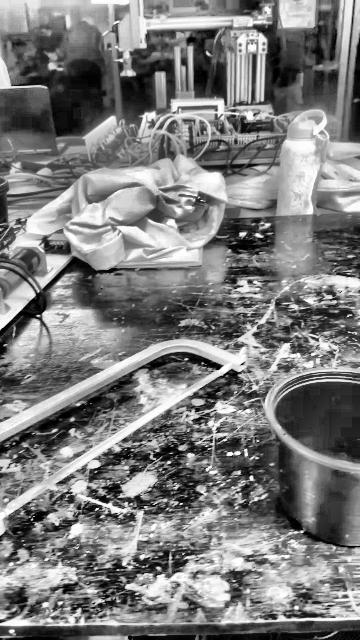pot: (269, 370, 359, 547)
